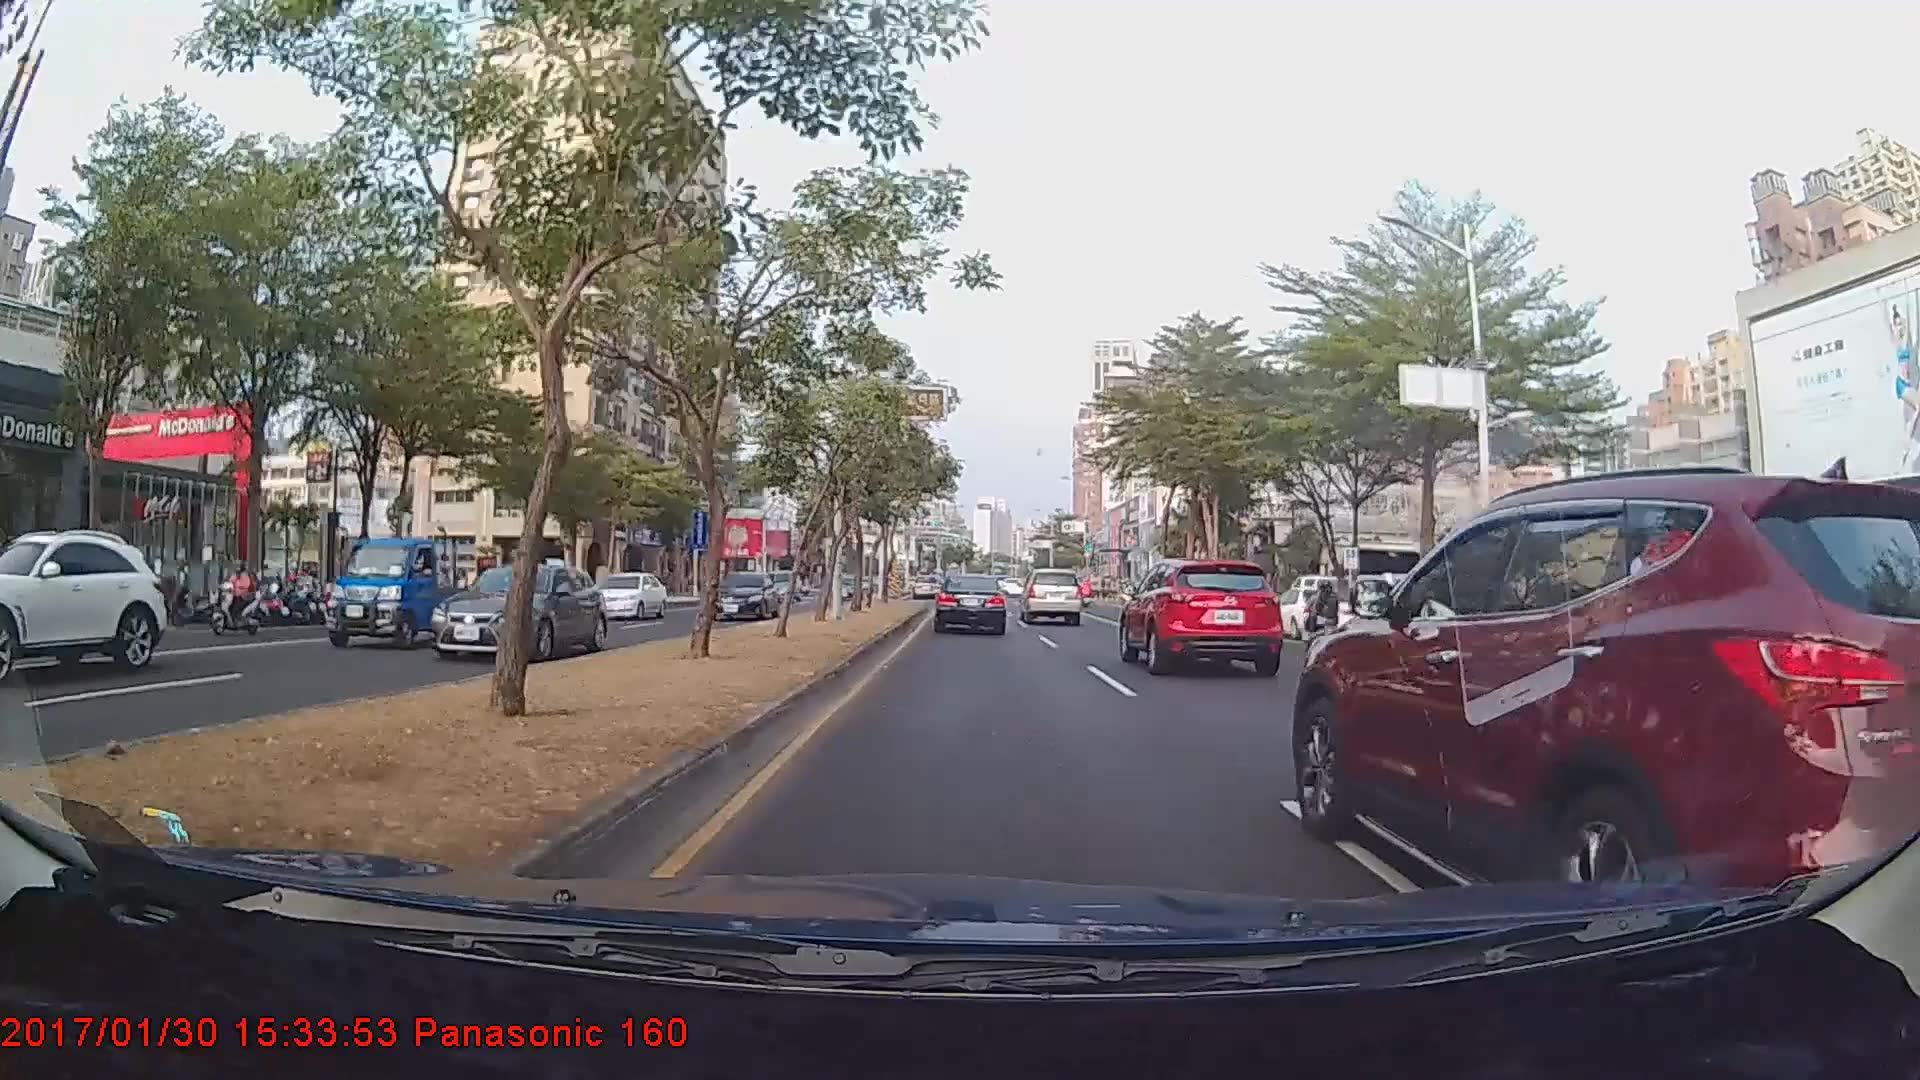rider: (210, 559, 270, 640), (1300, 580, 1349, 666)
vehicle: (1291, 468, 1919, 962), (0, 534, 165, 678), (319, 533, 492, 649), (1117, 559, 1284, 677), (419, 563, 601, 663), (1260, 584, 1356, 640), (933, 572, 1007, 635), (584, 573, 668, 622), (1019, 566, 1083, 625), (708, 571, 781, 623), (910, 575, 941, 600)
